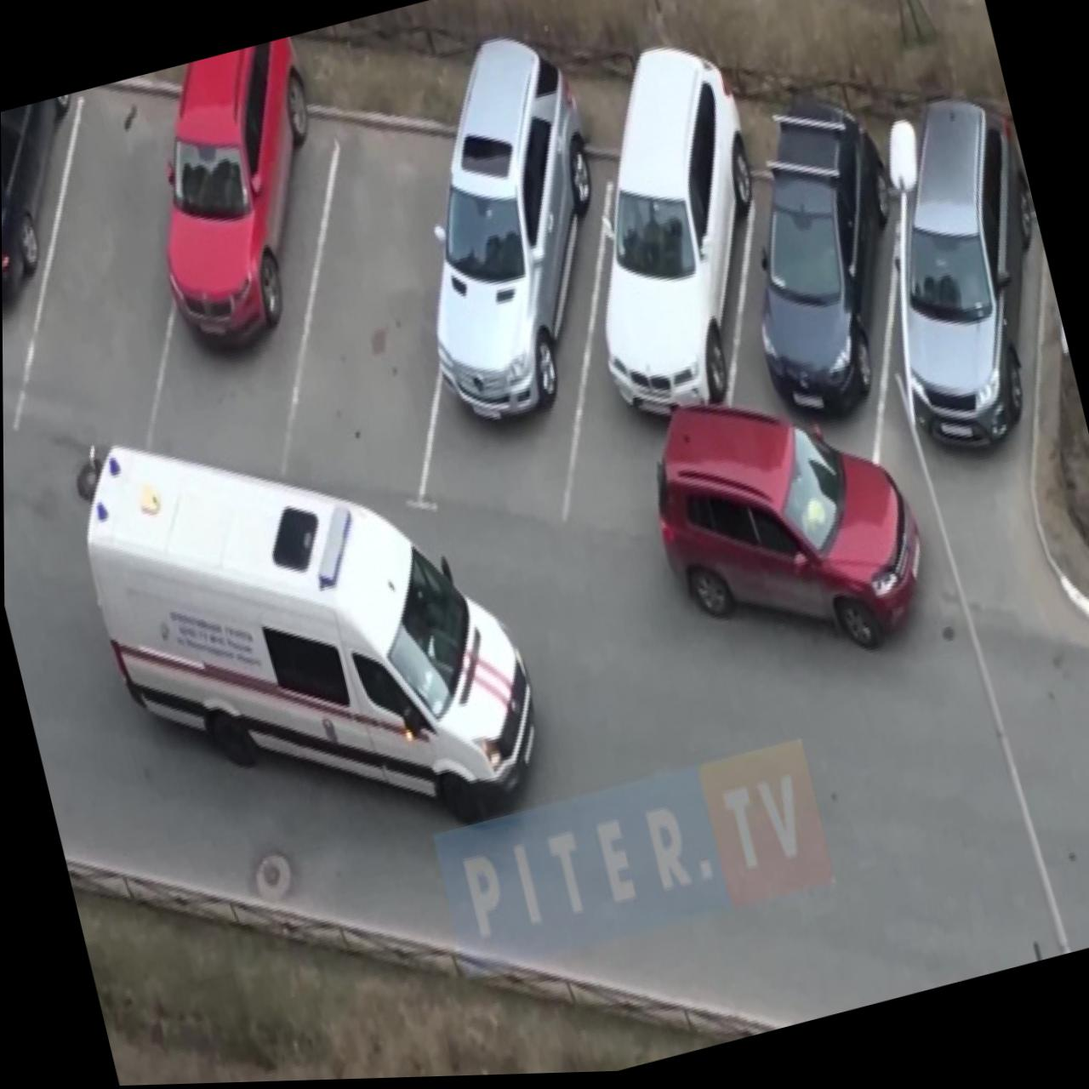cars: (344, 23, 677, 537), (493, 57, 810, 520), (80, 53, 390, 496), (662, 64, 953, 517), (833, 80, 1081, 520), (1, 96, 122, 427)
empty: (199, 77, 522, 507), (1, 66, 256, 499)
